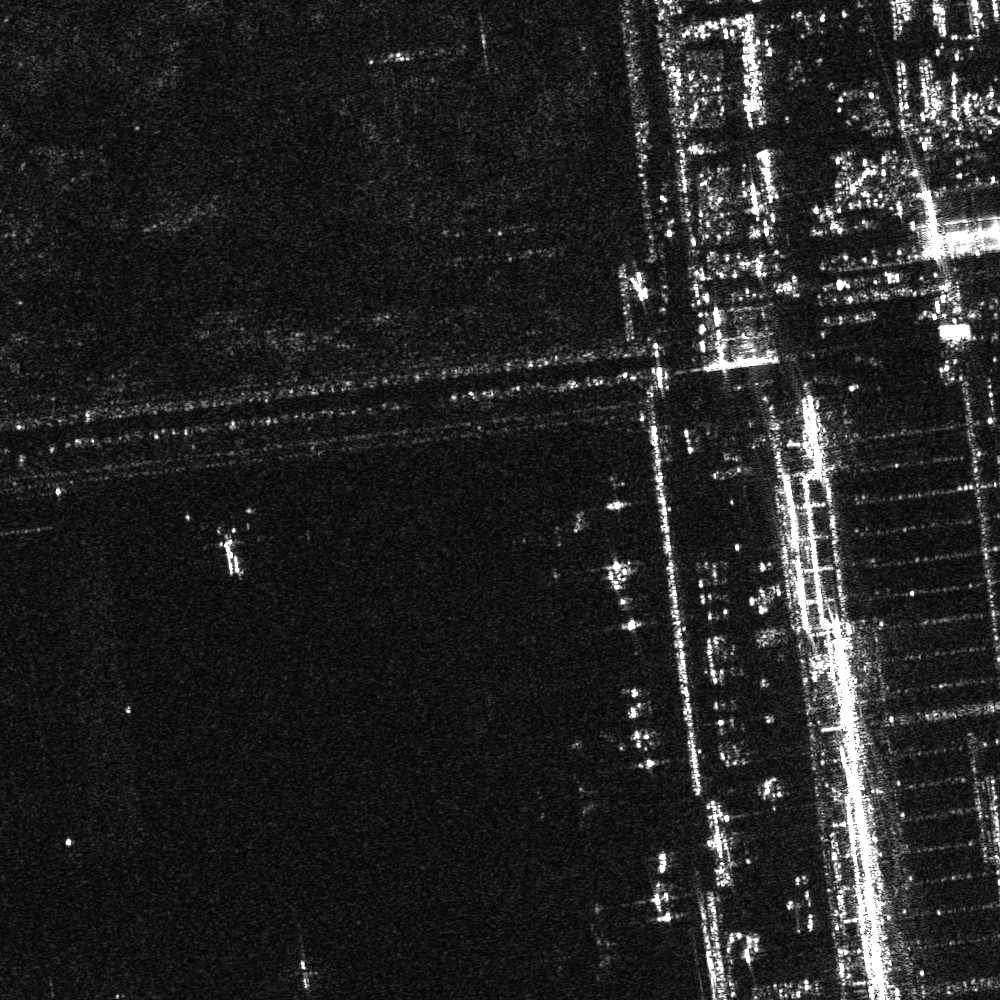Boeing787: (552, 910, 636, 982)
other: (200, 517, 252, 575)
